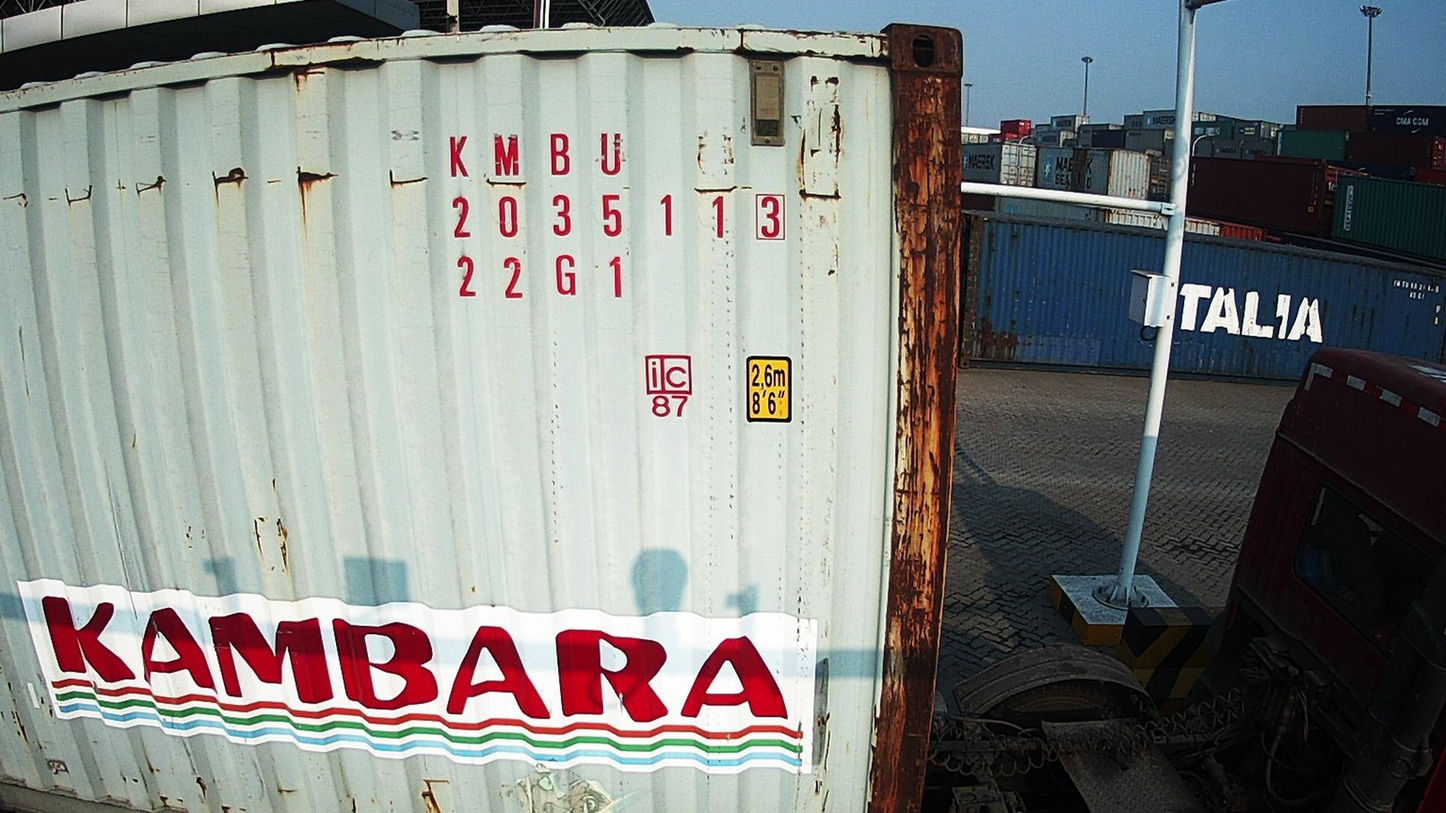container-numbers: (447, 185, 793, 248), (444, 130, 629, 185), (454, 249, 636, 304)
